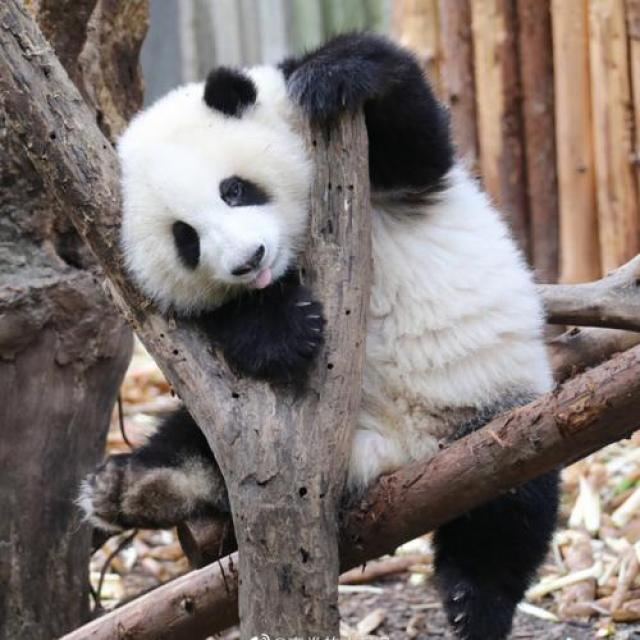panda: (73, 20, 561, 640)
